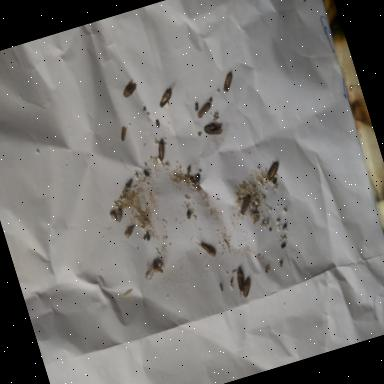pbw: (154, 82, 179, 108), (230, 267, 250, 298), (194, 236, 216, 260), (262, 158, 283, 182), (153, 136, 171, 162), (119, 78, 140, 98), (202, 119, 224, 138), (236, 194, 255, 216), (219, 70, 237, 93), (238, 275, 254, 298), (194, 100, 213, 118), (117, 124, 130, 142)
